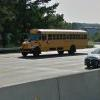Bus: (21, 25, 90, 58)
